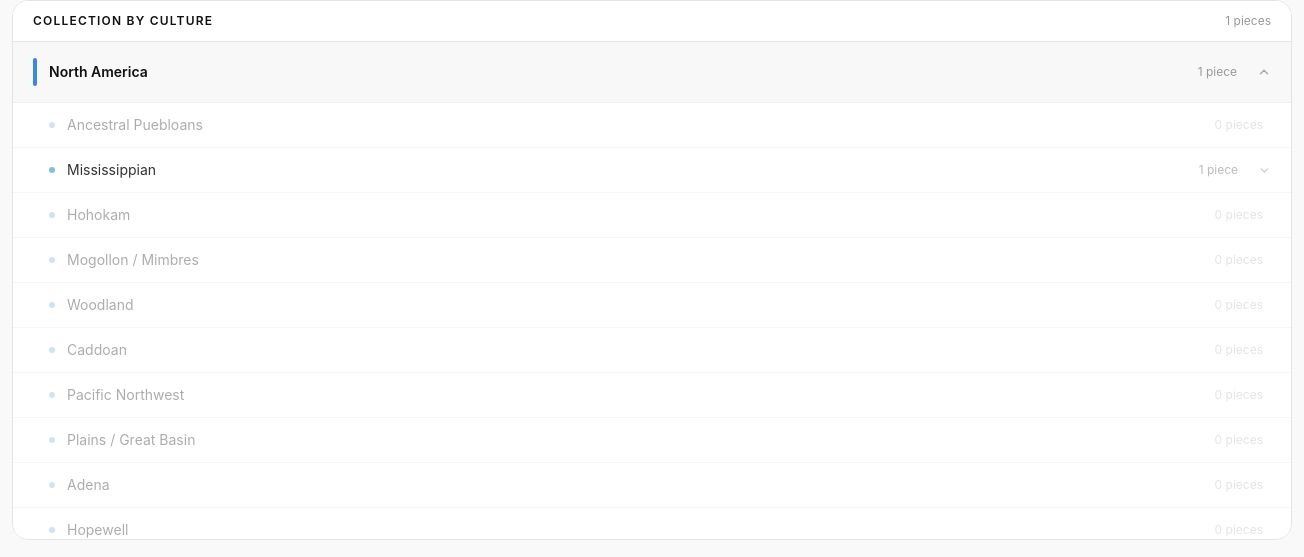
it: InventoryTree › matches a piece to its culture case-insensitively via substring
Click the text "Mississippian".
click(112, 170)  # box [67,161,156,178]
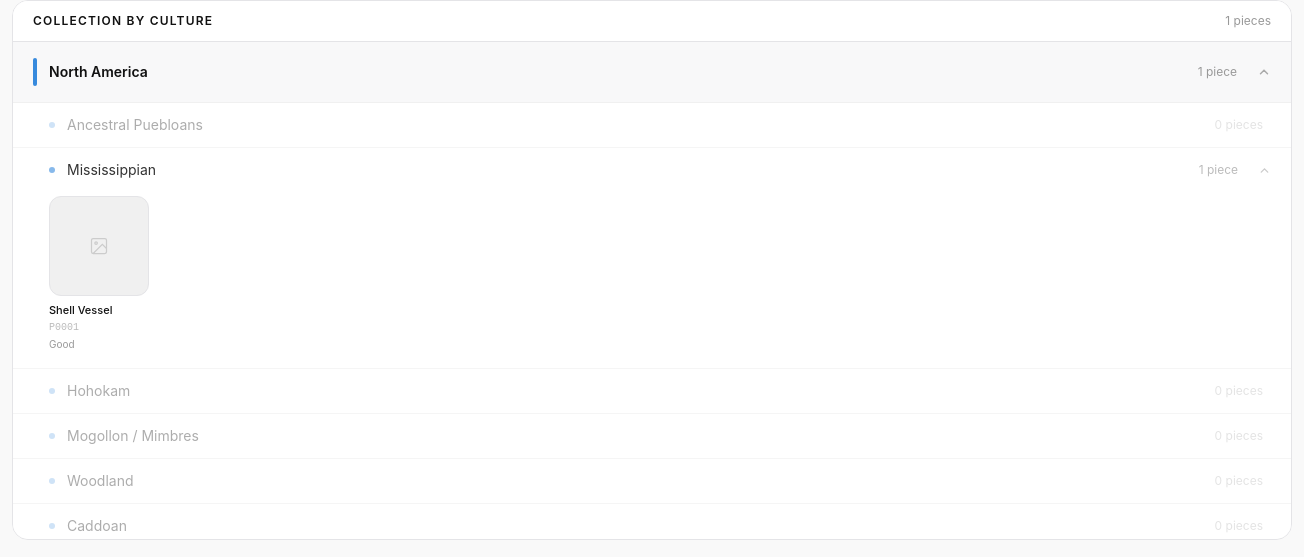
Expected: the text "Shell Vessel" is shown, [49,303,112,317]
